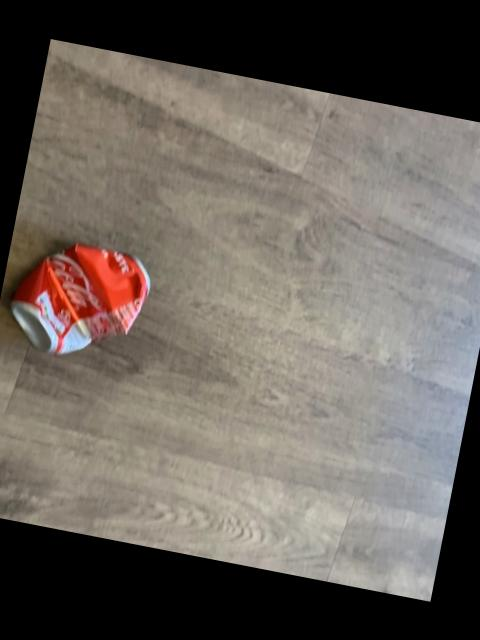metal: (8, 245, 147, 355)
